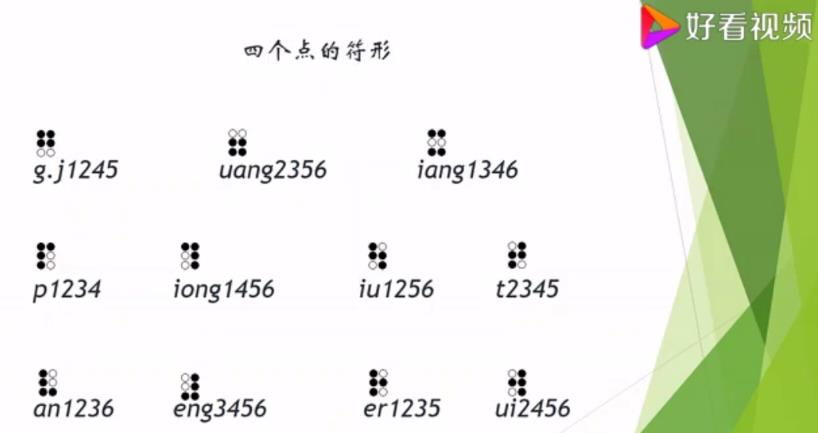Braille: (426, 128, 448, 157), (368, 369, 390, 398), (36, 241, 57, 271), (180, 372, 201, 402), (180, 241, 201, 271), (507, 240, 528, 270), (37, 369, 59, 397), (227, 128, 248, 157), (36, 129, 56, 158), (368, 242, 388, 271), (507, 368, 527, 397)
